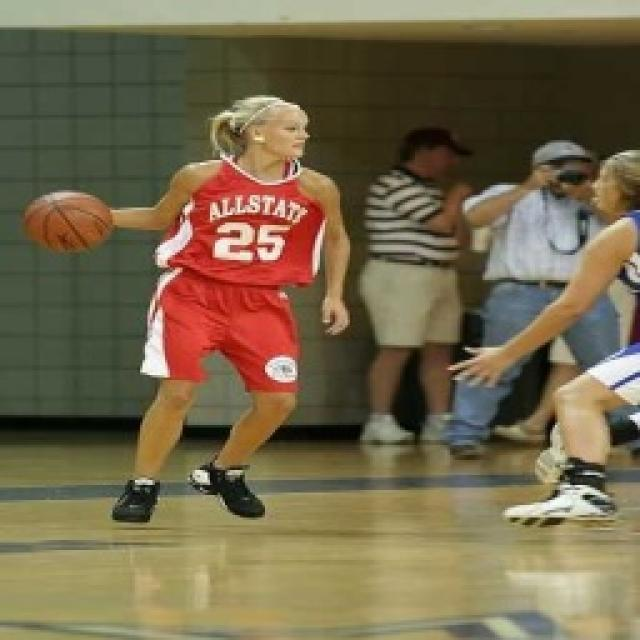rim: (23, 184, 117, 262)
